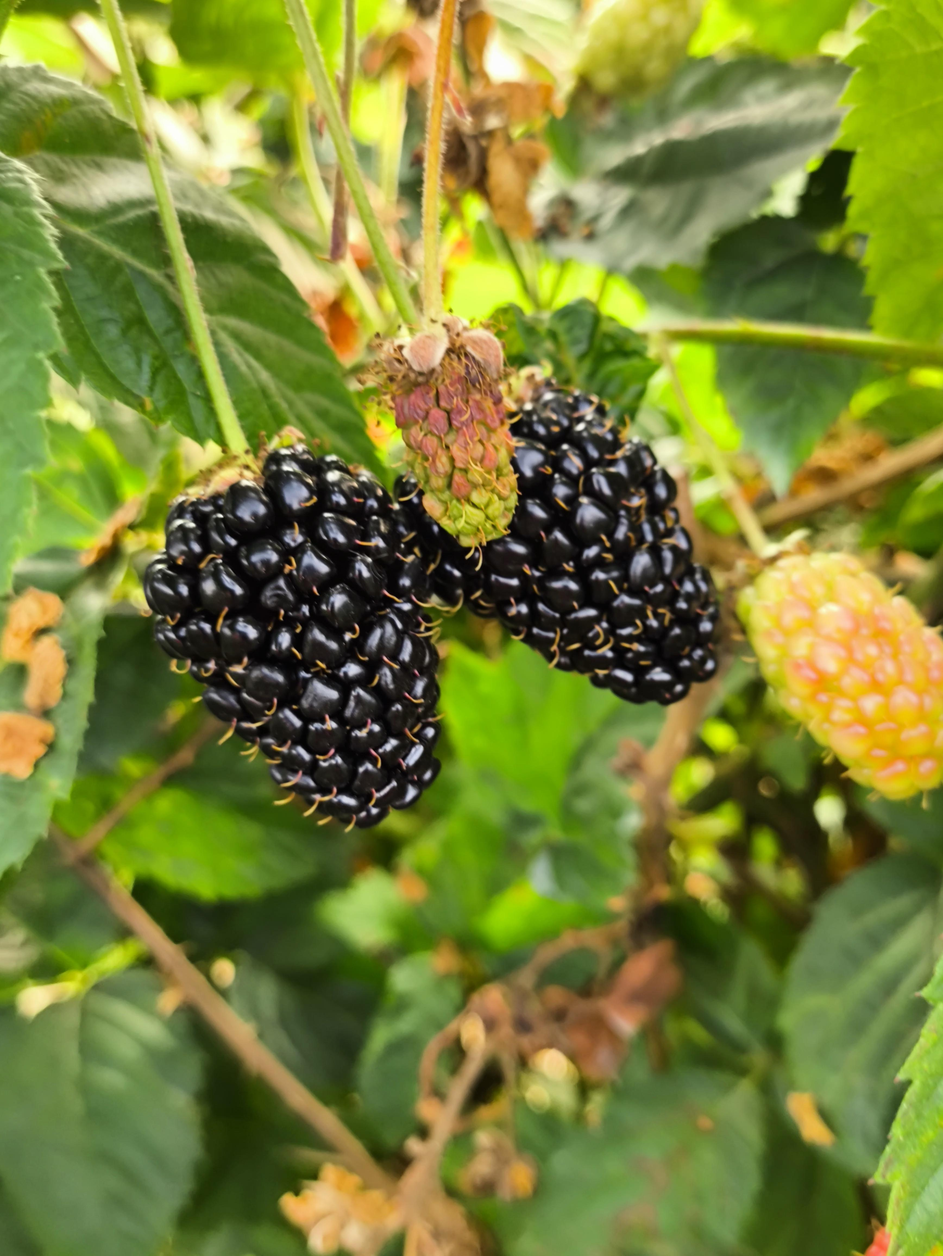maduro: (144, 444, 439, 827), (397, 381, 718, 705)
verde: (737, 552, 943, 800)
